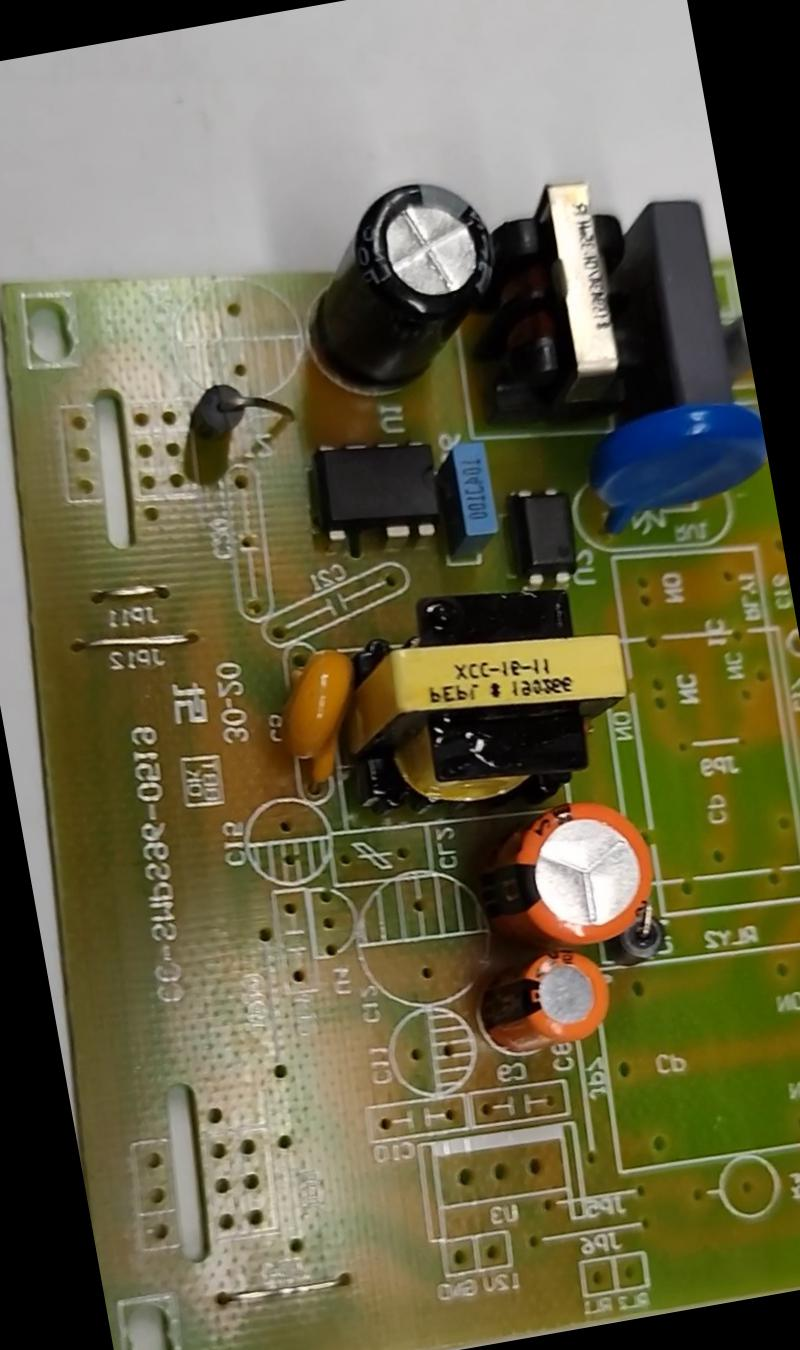Cap1: (482, 792, 662, 953)
Cap2: (479, 946, 616, 1056)
Cap3: (289, 168, 514, 400)
MOSFET: (308, 431, 443, 551)
Mov: (586, 395, 772, 519)
Resistor: (723, 310, 753, 382)
Transformer: (349, 576, 643, 820), (490, 170, 650, 397)
